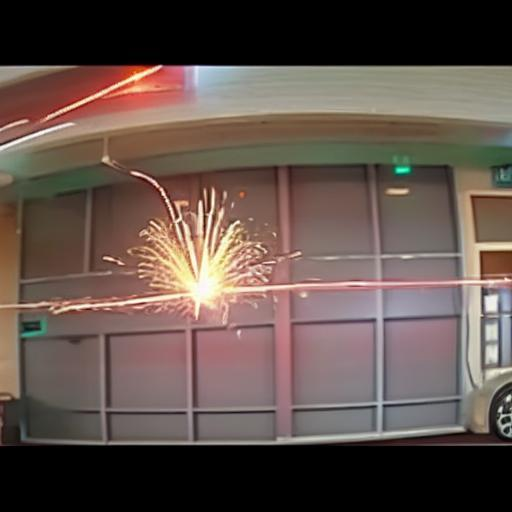fire: (51, 153, 335, 331)
